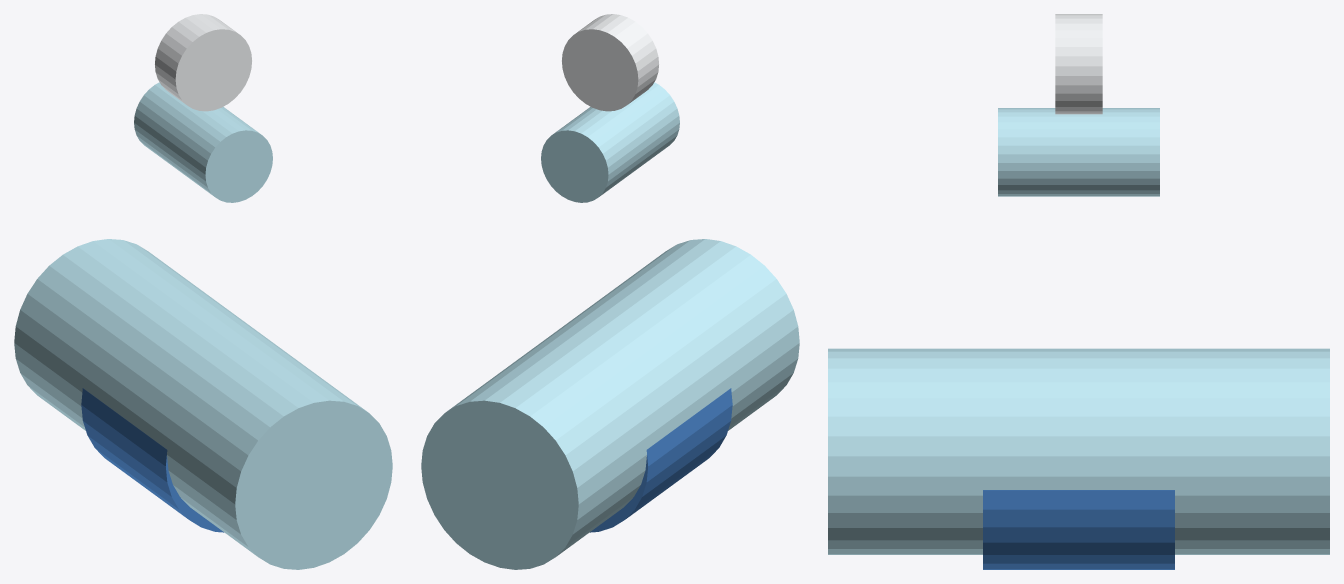
Rendered from water-bottle.glb.
3 views of the same model, side by side, from view 1: azimuth 30°, elevation 25°; view 2: azimuth 150°, elevation 25°; view 3: azimuth 270°, elevation 25° (orthographic). The views are drawn at different scales.
Parts seen in each view (by area): view 1: bottle_body, bottle_neck, bottle_cap, bottle_label; view 2: bottle_body, bottle_neck, bottle_cap, bottle_label; view 3: bottle_body, bottle_label, bottle_neck, bottle_cap.
Boxes of the visible parts, box(x1,y1,x2,y2) form: bottle_body: box(14, 239, 392, 569); bottle_neck: box(134, 82, 272, 202); bottle_cap: box(155, 14, 251, 111); bottle_label: box(81, 388, 223, 532); bottle_body: box(421, 239, 799, 569); bottle_neck: box(541, 82, 679, 202); bottle_cap: box(562, 14, 658, 111); bottle_label: box(590, 388, 732, 532); bottle_body: box(828, 348, 1329, 554); bottle_label: box(983, 490, 1174, 569); bottle_neck: box(998, 108, 1159, 196); bottle_cap: box(1055, 14, 1102, 114).
Bounding box in the file's own units: 0.071 × 0.2025 × 0.17.
